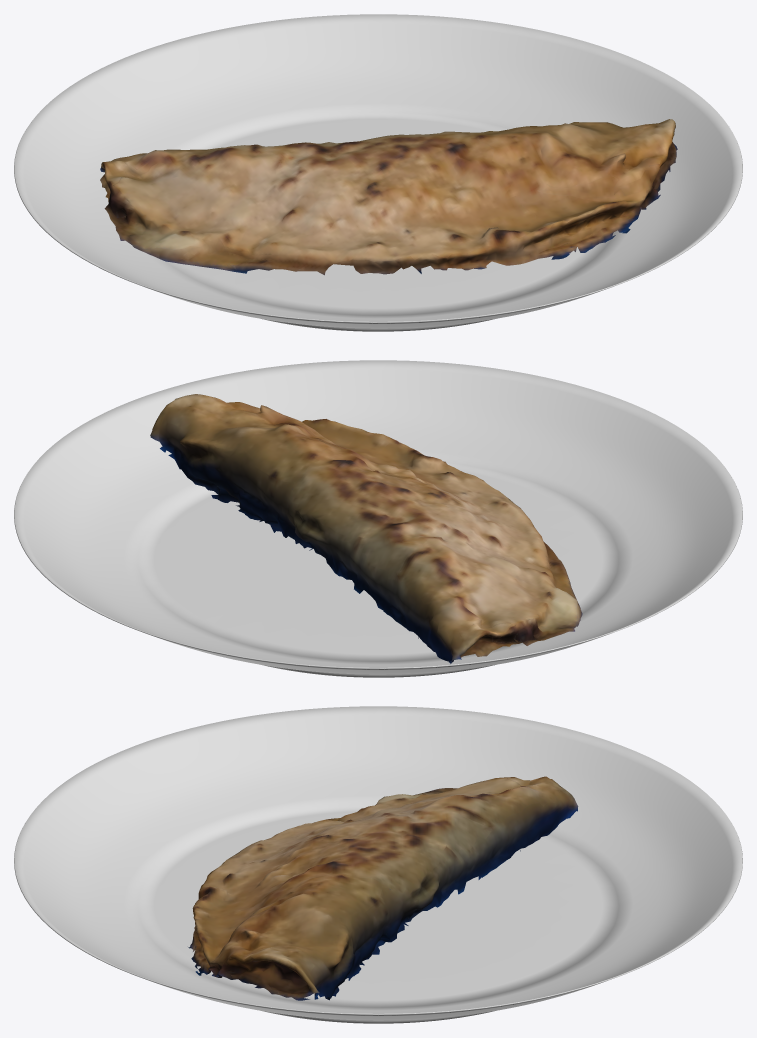
The model's file is quesadillaplate.fbx.
3 views of the same model, one above another, from view 1: azimuth 30°, elevation 25°; view 2: azimuth 150°, elevation 25°; view 3: azimuth 270°, elevation 25° (orthographic).
Visible parts, largest first — view 1: Plate, Mesh_0_Part_0.004; view 2: Plate, Mesh_0_Part_0.004; view 3: Plate, Mesh_0_Part_0.004.
Part boxes in pixels (<box>): Plate: <box>14,14,742,331</box>; Mesh_0_Part_0.004: <box>100,119,677,275</box>; Plate: <box>14,360,742,677</box>; Mesh_0_Part_0.004: <box>150,394,582,663</box>; Plate: <box>14,706,742,1023</box>; Mesh_0_Part_0.004: <box>188,776,578,1000</box>.
Size of the model in its own units: 24.72 by 3.52 by 24.72.
2 materials, 1 textured.
